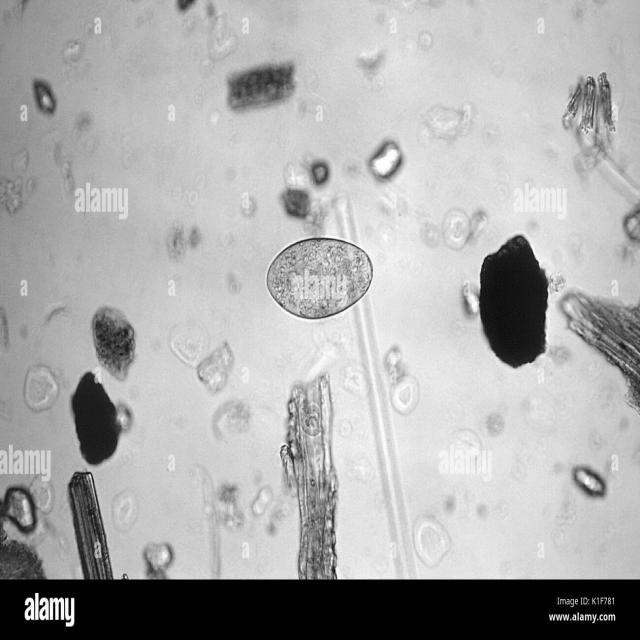Fasciola Hepatica: (260, 234, 376, 321)
